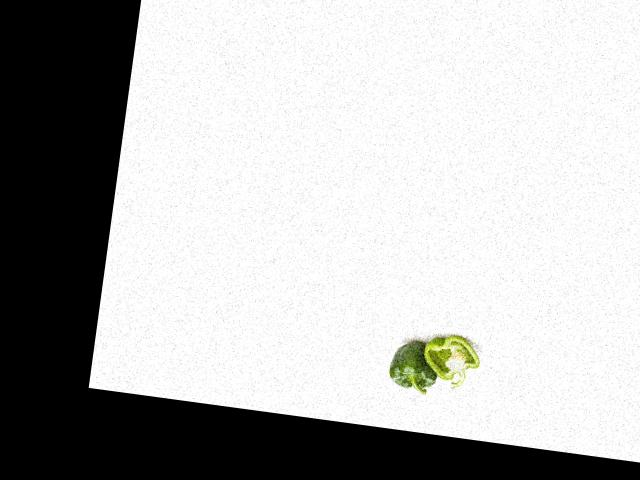bell_pepper: (417, 332, 485, 394)
